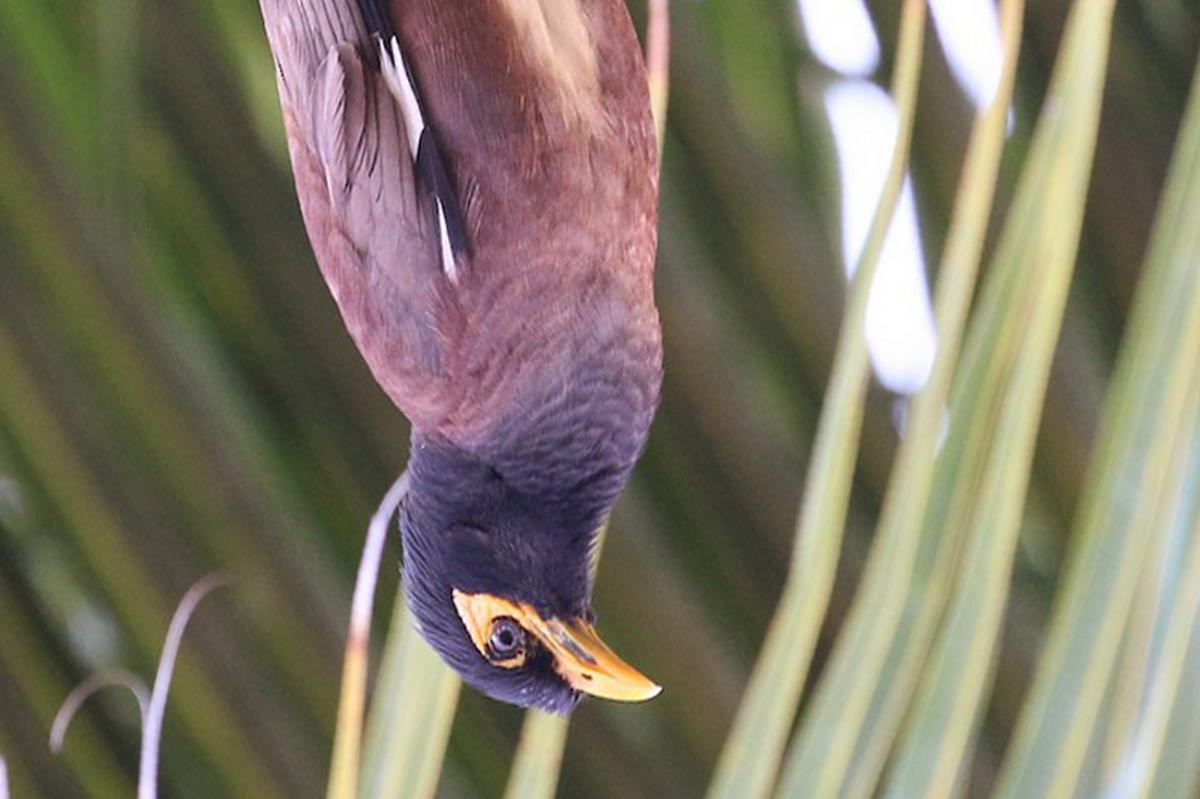myna: (318, 20, 669, 729)
